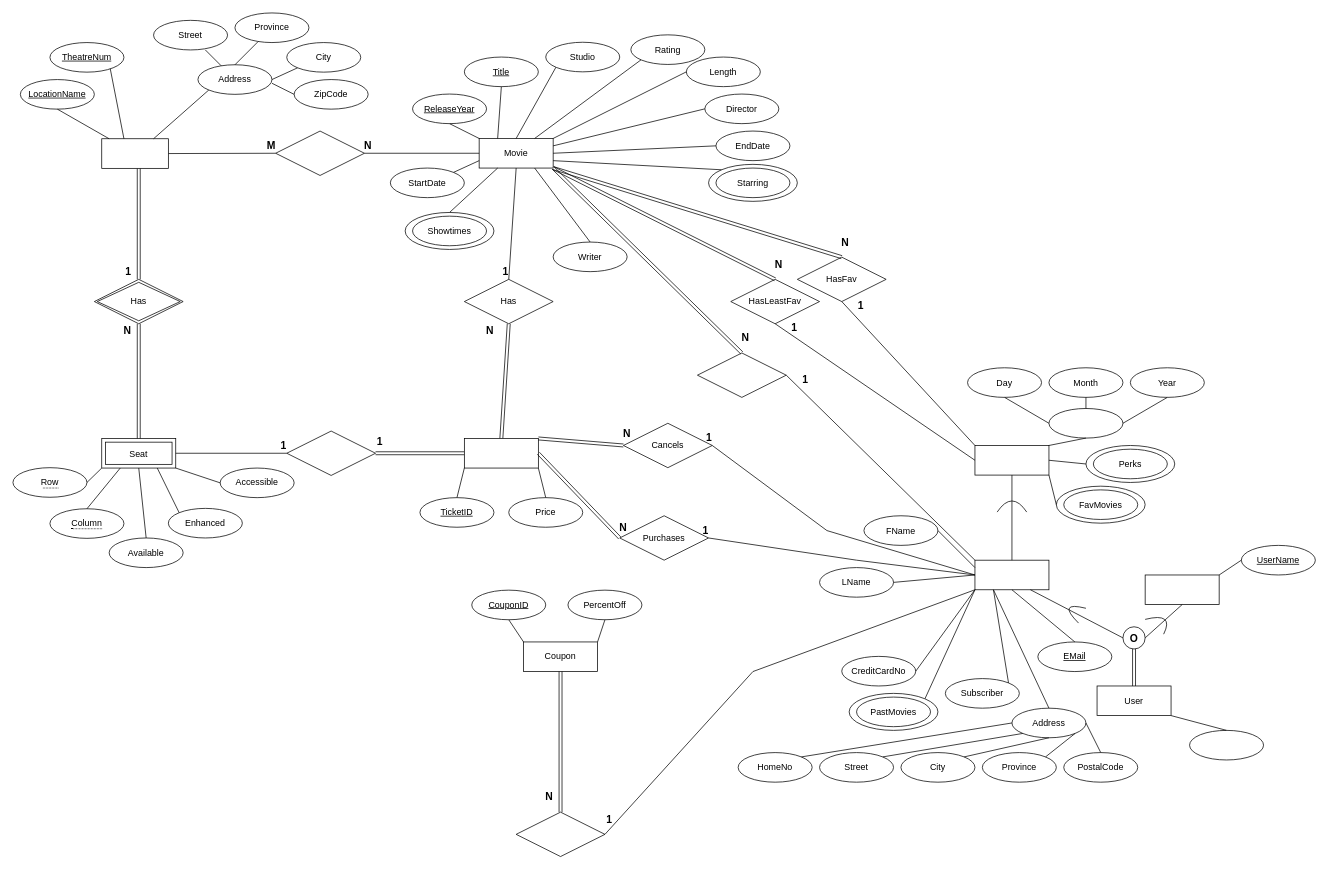
Image size: 1328x870. Some labels were removed from this diagram. The shapes that lost their labels are listed below. From the top down, each one's centre as x and y in pixels, then its label:
the point at 134,153: Theater
the point at 319,152: Shows
the point at 741,374: HasWatched
the point at 1085,423: SubscrEndDate
the point at 331,452: For
the point at 501,453: Ticket
the point at 1011,460: SubscrCust
the point at 1011,574: Customer
the point at 1181,589: Administrator
the point at 1226,745: Password
the point at 560,834: RefundedTo
